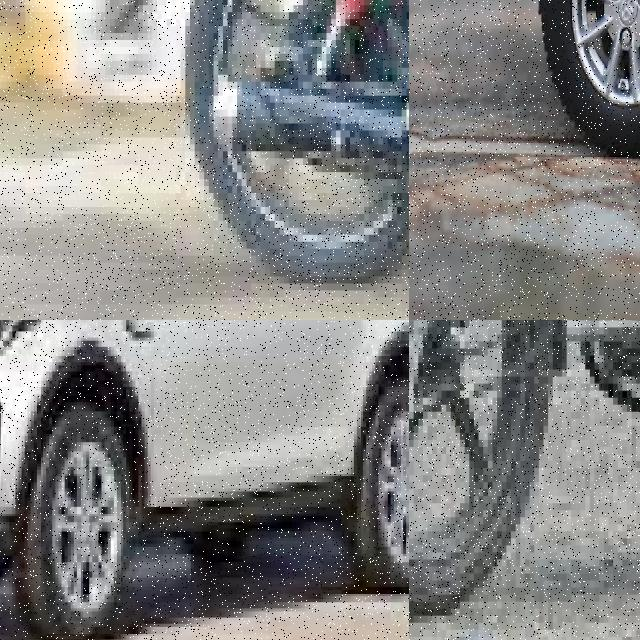bike: (133, 0, 409, 311), (409, 320, 640, 615)
car: (0, 320, 409, 640), (502, 0, 640, 182)
